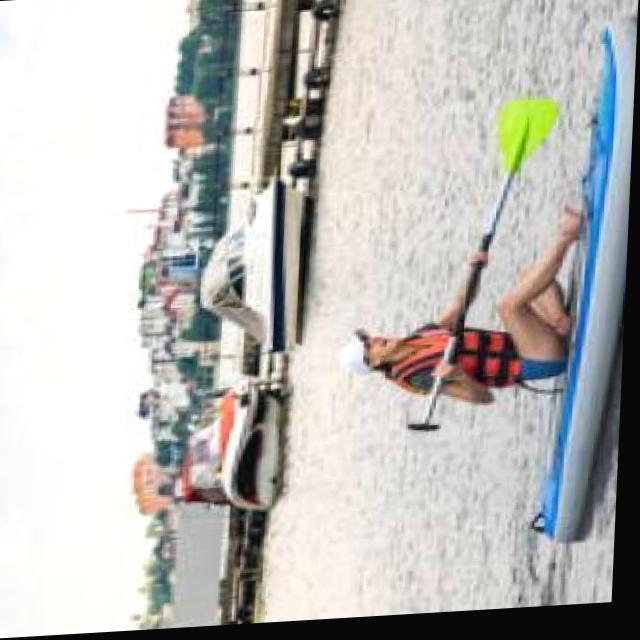kayak: (540, 25, 638, 550)
